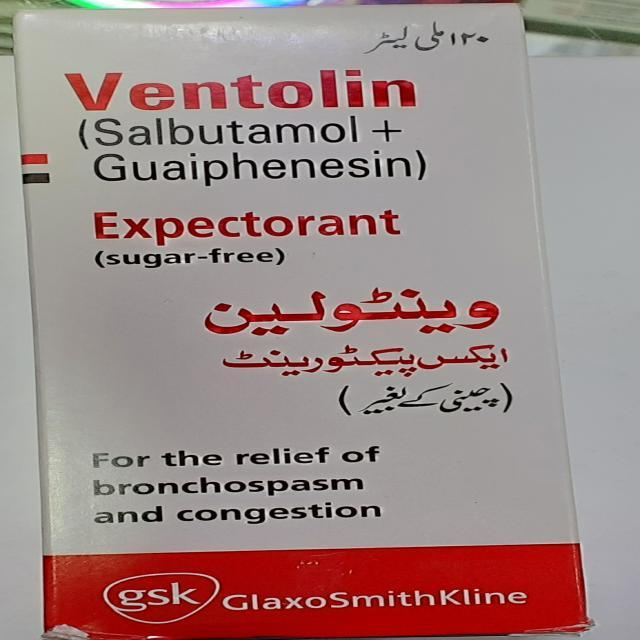drug-name: (67, 56, 416, 116)
